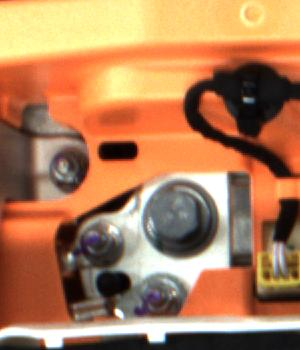nut_b: (142, 175, 225, 260)
screw_s: (39, 147, 91, 195), (134, 283, 183, 317), (82, 228, 121, 260)
